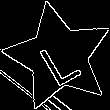L_NW: (32, 27, 85, 87)
